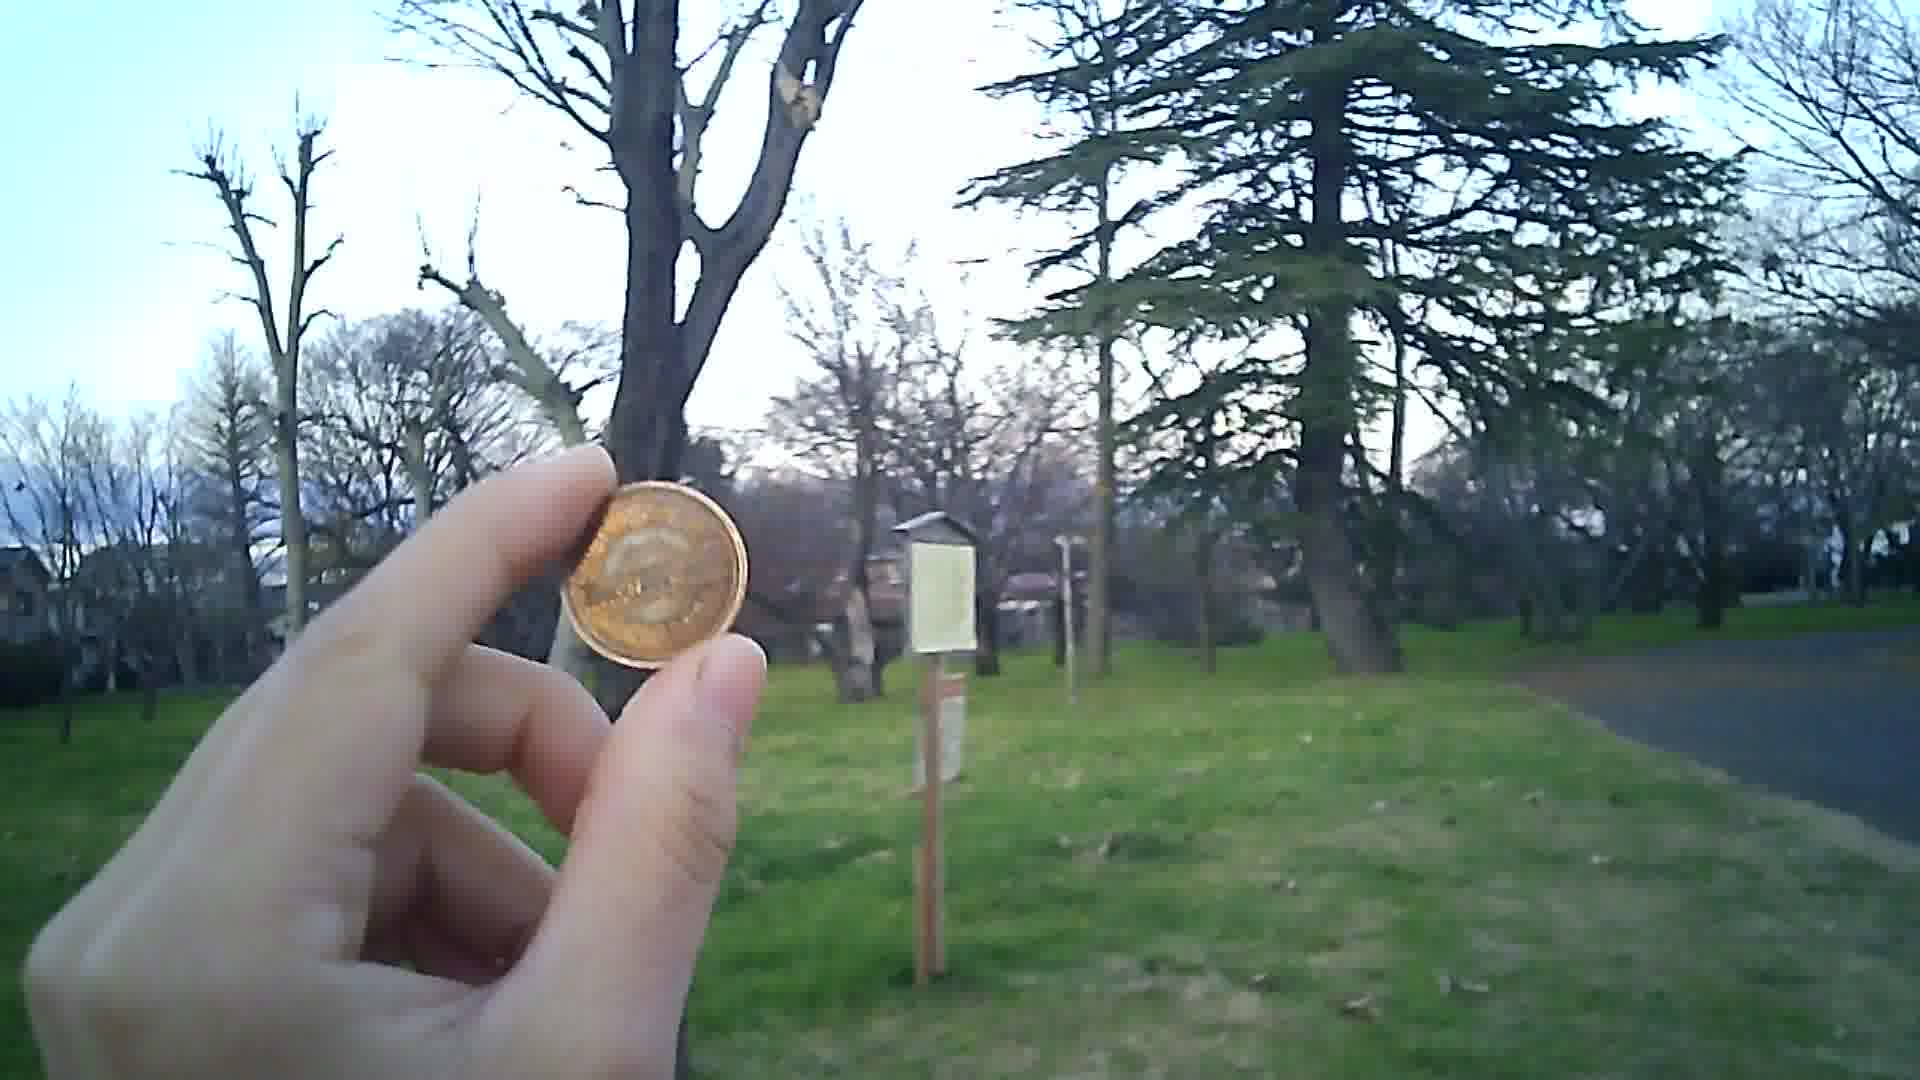10 Yen: (551, 479, 746, 669)
